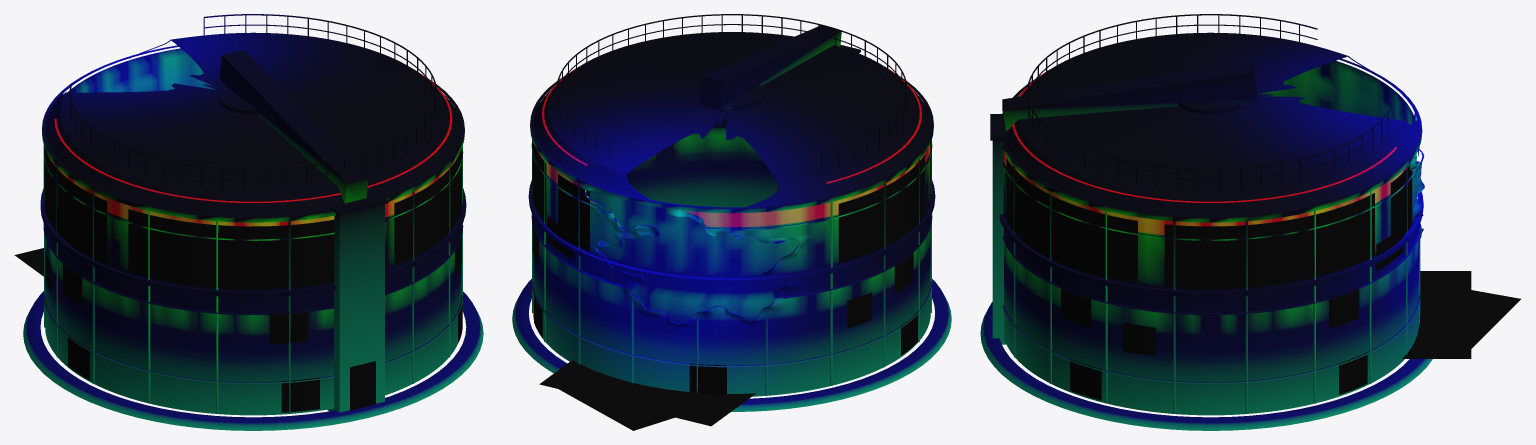
Rendered from liquidstorage_damaged.glb.
The picture shows the model from 3 angles, left to right: view 1: azimuth 30°, elevation 25°; view 2: azimuth 150°, elevation 25°; view 3: azimuth 270°, elevation 25°; orthographic projection. The views are drawn at different scales.
Parts seen in each view (by area): view 1: lod0; view 2: lod0; view 3: lod0.
Part boxes in pixels (left/top/right/bottom): lod0: left=14, top=14, right=483, bottom=430; lod0: left=512, top=14, right=951, bottom=430; lod0: left=980, top=14, right=1520, bottom=430.
Size of what is drawn, in the model's own units: 20.12 by 12.84 by 23.64.
